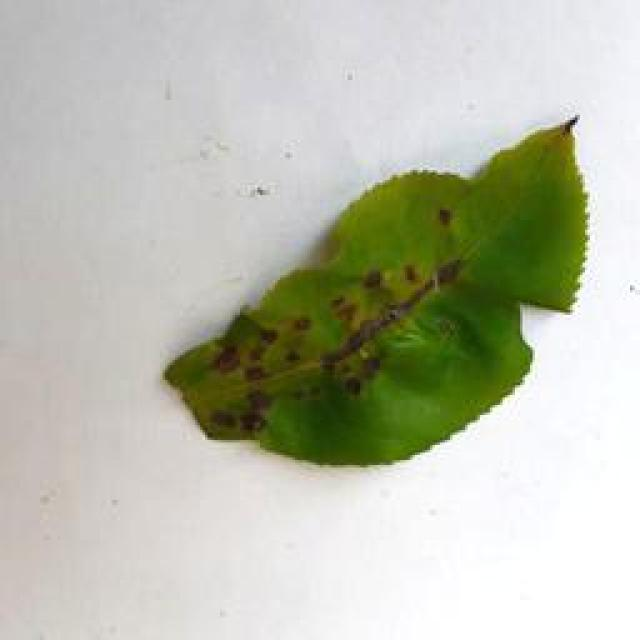Helopeltis: (149, 104, 607, 480)
